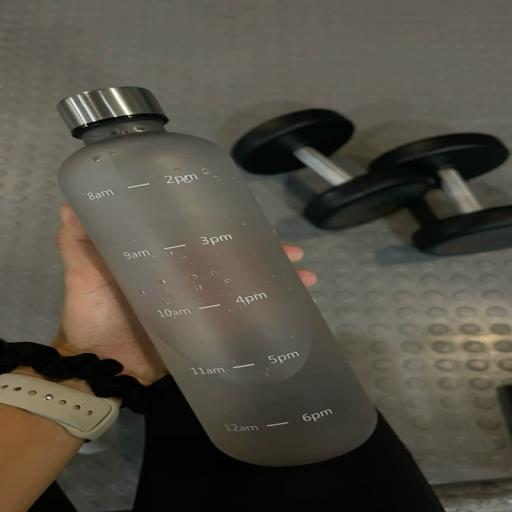bench: (40, 70, 398, 464)
laptop: (0, 183, 453, 512)
